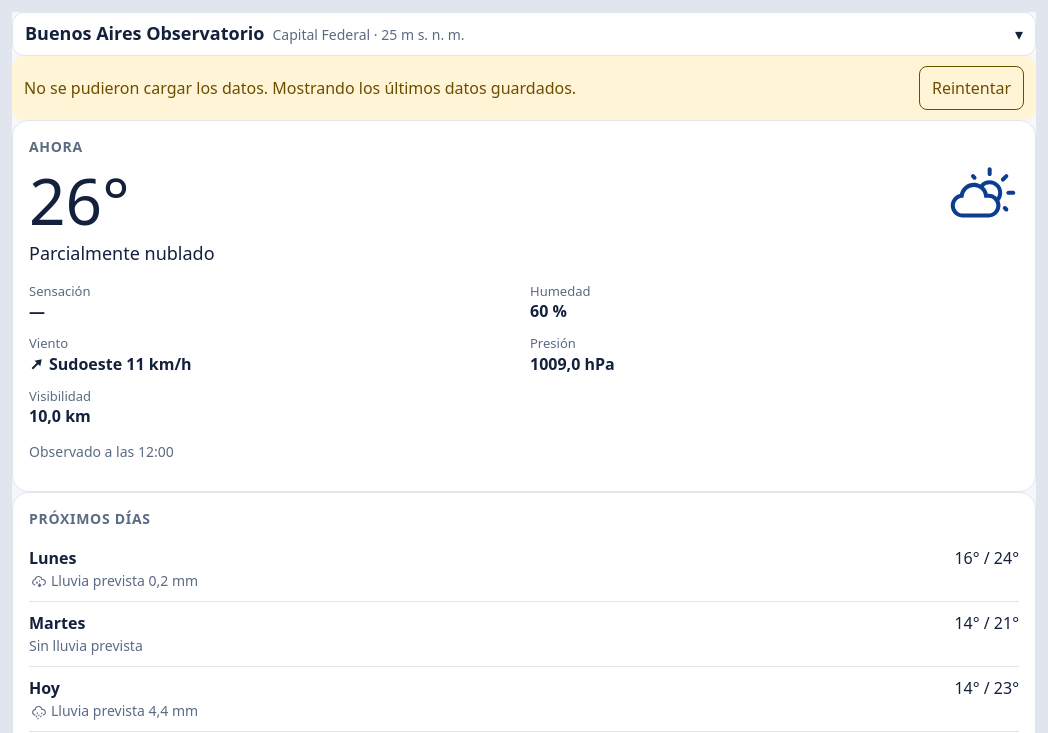
Scenario: WeatherScreen › refetch fallido con datos previos: aviso con Reintentar y datos visibles
This screenshot has width=1048, height=733.
Check: the heading "Próximos días" is shown, box [29,509,151,528]
Check: the text "Mostrando los últimos datos guardados" is shown, box [264,77,576,99]
Click the button "Reintentar" at {"x": 972, "y": 88}, box [919,66,1024,110]
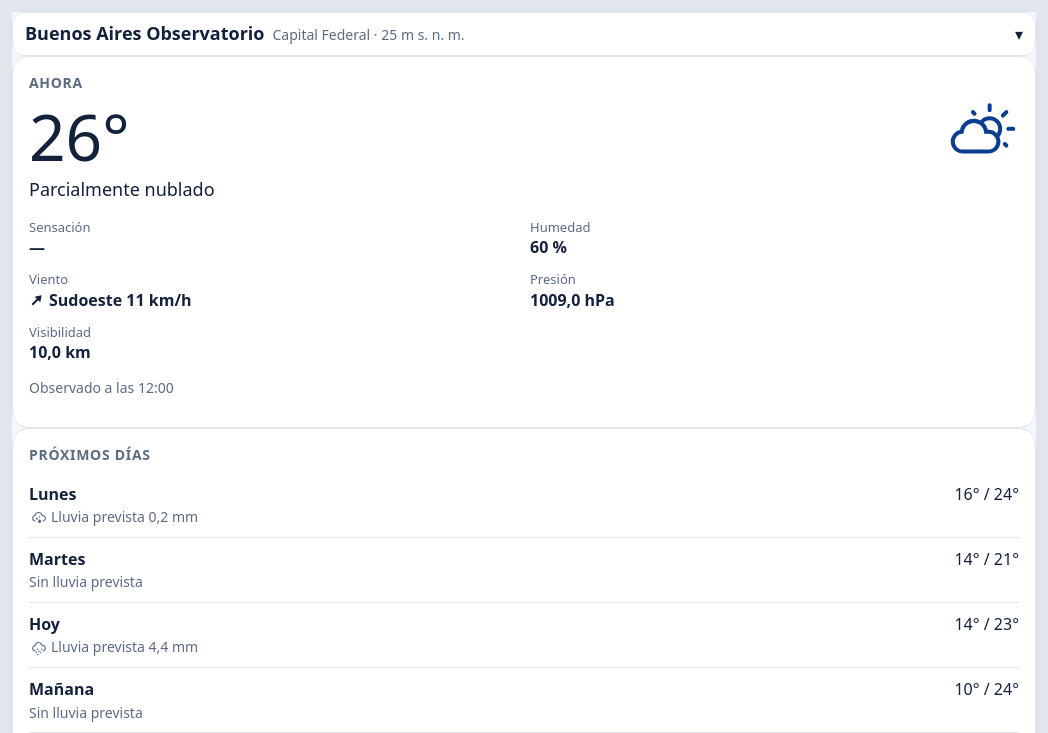
Check: the text "Mostrando los últimos datos guardados" is gone
